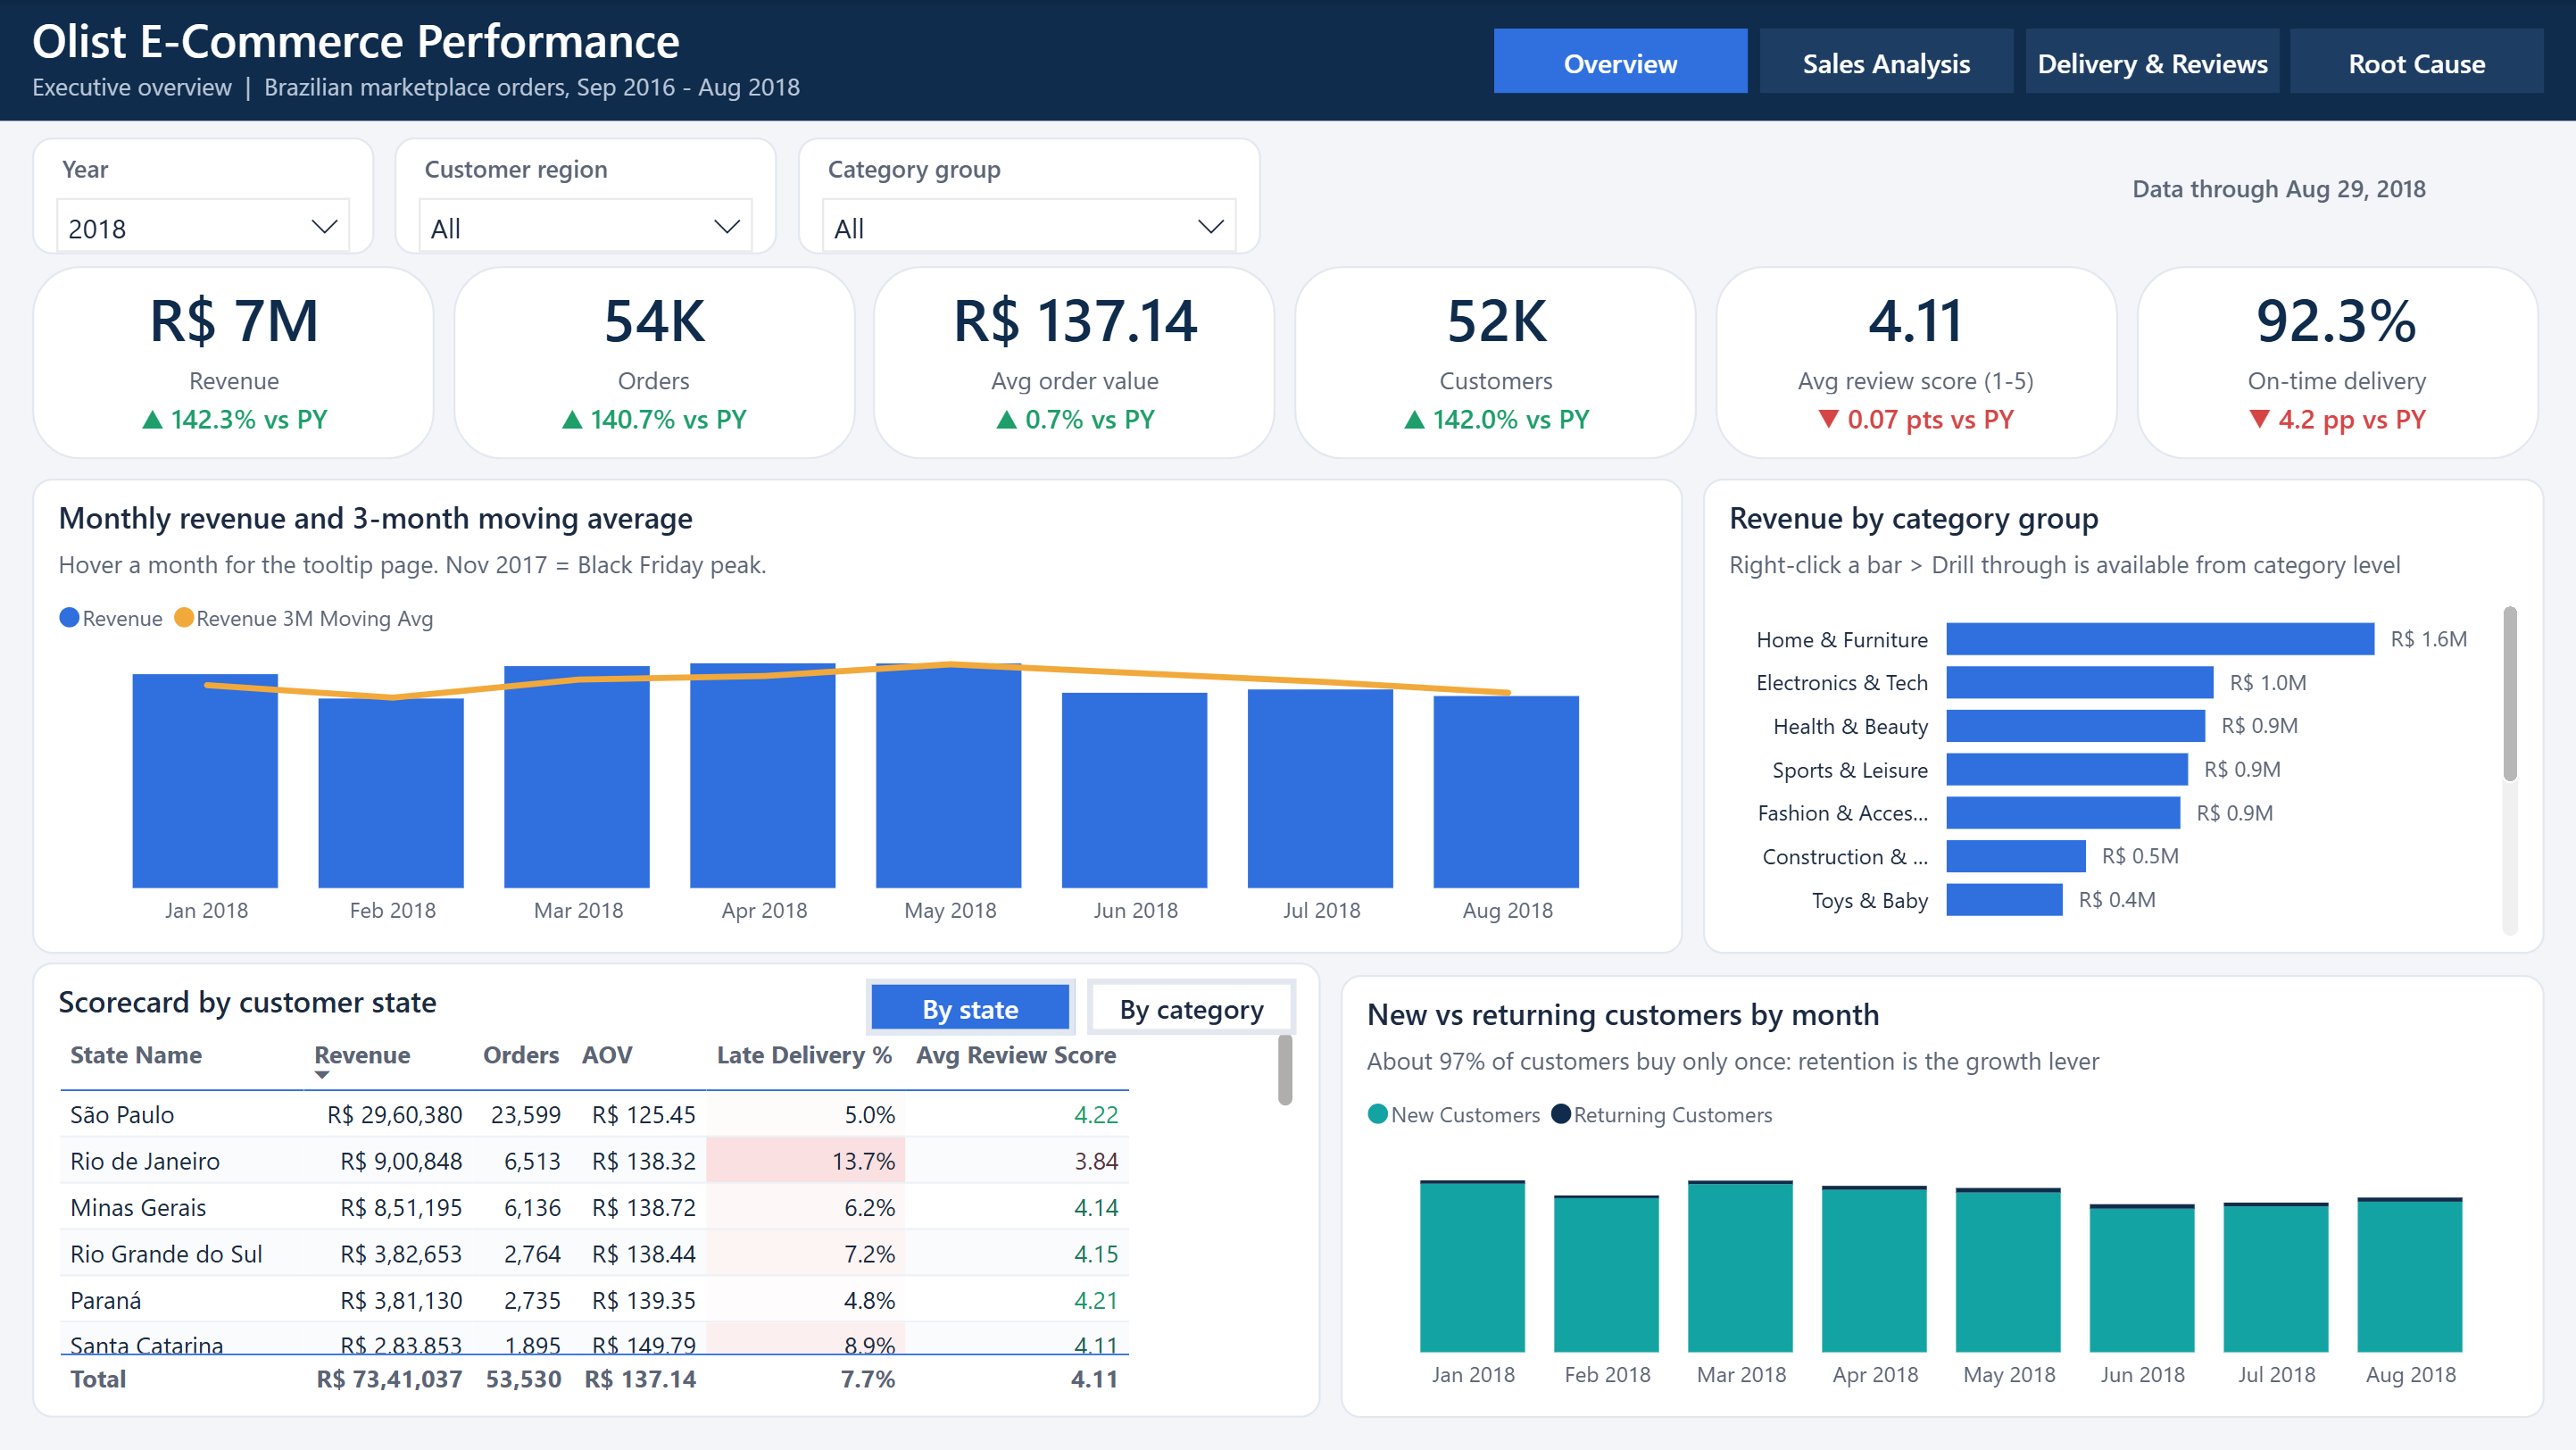

The page's visual inventory and layout, read from the dashboard file:
{"tool":"powerbi","page":{"name":"Executive Overview","canvas":[1280,720],"ordinal":0},"visuals":[{"type":"shape","box":[0,0,1280,60],"z":1100},{"type":"textbox","box":[16,4,620,54],"z":1200},{"type":"actionButton","box":[742,14,126,32],"z":1300},{"type":"actionButton","box":[874,14,126,32],"z":1400},{"type":"actionButton","box":[1006,14,126,32],"z":1500},{"type":"actionButton","box":[1138,14,126,32],"z":1600},{"type":"slicer","fields":{"Values":["Date.Year"]},"box":[16,68,170,58],"z":1700},{"type":"slicer","fields":{"Values":["Customer.Region"]},"box":[196,68,190,58],"z":1800},{"type":"slicer","fields":{"Values":["Product.Category Group"]},"box":[396,68,230,58],"z":1900},{"type":"card","fields":{"Values":["_Measures.Data Through"]},"box":[1000,78,264,36],"z":2000},{"type":"shape","box":[16,132,200,96],"z":2100},{"type":"card","fields":{"Values":["_Measures.Revenue"]},"box":[20,136,192,62],"z":2200},{"type":"card","fields":{"Values":["_Measures.Revenue YoY Label"]},"box":[20,196,192,28],"z":2300},{"type":"shape","box":[225,132,200,96],"z":2400},{"type":"card","fields":{"Values":["_Measures.Orders"]},"box":[229,136,192,62],"z":2500},{"type":"card","fields":{"Values":["_Measures.Orders YoY Label"]},"box":[229,196,192,28],"z":2600},{"type":"shape","box":[434,132,200,96],"z":2700},{"type":"card","fields":{"Values":["_Measures.AOV"]},"box":[438,136,192,62],"z":2800},{"type":"card","fields":{"Values":["_Measures.AOV YoY Label"]},"box":[438,196,192,28],"z":2900},{"type":"shape","box":[643,132,200,96],"z":3000},{"type":"card","fields":{"Values":["_Measures.Customers"]},"box":[647,136,192,62],"z":3100},{"type":"card","fields":{"Values":["_Measures.Customers YoY Label"]},"box":[647,196,192,28],"z":3200},{"type":"shape","box":[852,132,200,96],"z":3300},{"type":"card","fields":{"Values":["_Measures.Avg Review Score"]},"box":[856,136,192,62],"z":3400},{"type":"card","fields":{"Values":["_Measures.Review YoY Label"]},"box":[856,196,192,28],"z":3500},{"type":"shape","box":[1061,132,200,96],"z":3600},{"type":"card","fields":{"Values":["_Measures.On-Time Delivery %"]},"box":[1065,136,192,62],"z":3700},{"type":"card","fields":{"Values":["_Measures.On-Time YoY Label"]},"box":[1065,196,192,28],"z":3800},{"type":"lineClusteredColumnComboChart","title":"Monthly revenue and 3-month moving average","fields":{"Category":["Date.Year Month"],"Y":["_Measures.Revenue"],"Y2":["_Measures.Revenue 3M Moving Avg"]},"box":[16,238,820,236],"z":3900},{"type":"clusteredBarChart","title":"Revenue by category group","fields":{"Category":["Product.Category Group"],"Y":["_Measures.Revenue"]},"box":[846,238,418,236],"z":4000},{"type":"tableEx","title":"Scorecard by customer state","fields":{"Values":["Customer.State Name","_Measures.Revenue","_Measures.Orders","_Measures.AOV","_Measures.Late Delivery %","_Measures.Avg Review Score"]},"box":[16,478,640,226],"z":4100},{"type":"actionButton","box":[430,486,104,28],"z":4300},{"type":"actionButton","box":[540,486,104,28],"z":4400},{"type":"columnChart","title":"New vs returning customers by month","fields":{"Category":["Date.Year Month"],"Y":["_Measures.New Customers","_Measures.Returning Customers"]},"box":[666,484,598,220],"z":4500}]}

Visuals, with their boxes in screenshot pixels (x1, y1, x2, y2), scaled from the page's 1280x720 canvas onto the 2576x1450 screenshot:
shape: 0, 0, 2575, 121
textbox: 32, 8, 1280, 117
actionButton: 1493, 29, 1747, 93
actionButton: 1759, 29, 2013, 93
actionButton: 2024, 29, 2278, 93
actionButton: 2290, 29, 2544, 93
slicer - Date.Year: 32, 137, 374, 254
slicer - Customer.Region: 395, 137, 777, 254
slicer - Product.Category Group: 797, 137, 1259, 254
card - _Measures.Data Through: 2013, 157, 2544, 229
shape: 32, 266, 435, 459
card - _Measures.Revenue: 40, 274, 427, 399
card - _Measures.Revenue YoY Label: 40, 395, 427, 451
shape: 453, 266, 855, 459
card - _Measures.Orders: 461, 274, 847, 399
card - _Measures.Orders YoY Label: 461, 395, 847, 451
shape: 874, 266, 1276, 459
card - _Measures.AOV: 882, 274, 1267, 399
card - _Measures.AOV YoY Label: 882, 395, 1267, 451
shape: 1294, 266, 1697, 459
card - _Measures.Customers: 1302, 274, 1689, 399
card - _Measures.Customers YoY Label: 1302, 395, 1689, 451
shape: 1715, 266, 2117, 459
card - _Measures.Avg Review Score: 1723, 274, 2109, 399
card - _Measures.Review YoY Label: 1723, 395, 2109, 451
shape: 2135, 266, 2538, 459
card - _Measures.On-Time Delivery %: 2143, 274, 2530, 399
card - _Measures.On-Time YoY Label: 2143, 395, 2530, 451
"Monthly revenue and 3-month moving average" lineClusteredColumnComboChart: 32, 479, 1683, 954
"Revenue by category group" clusteredBarChart: 1702, 479, 2544, 954
"Scorecard by customer state" tableEx: 32, 962, 1320, 1418
actionButton: 866, 979, 1075, 1035
actionButton: 1087, 979, 1296, 1035
"New vs returning customers by month" columnChart: 1341, 975, 2544, 1418
